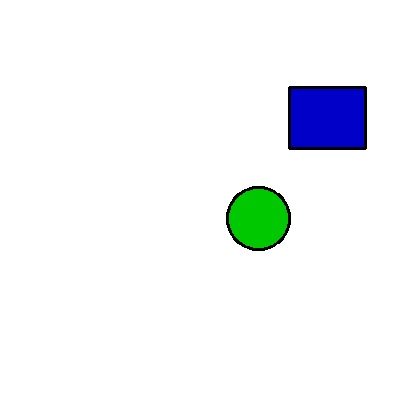circle: (220, 187, 297, 250)
rectangle: (289, 87, 365, 148)
